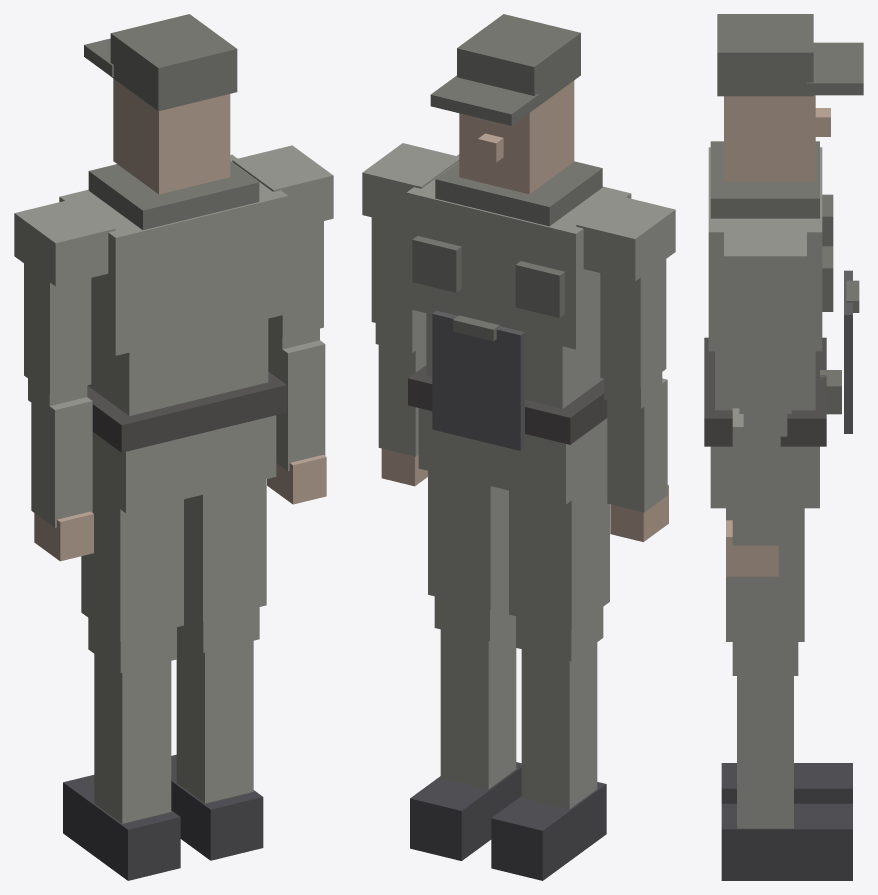
Rendered from crew_ruiz.glb.
The picture shows the model from 3 angles, left to right: view 1: azimuth 30°, elevation 25°; view 2: azimuth 150°, elevation 25°; view 3: azimuth 270°, elevation 25°; orthographic projection. The views are drawn at different scales.
Parts seen in each view (by area): view 1: chest, thigh_-1, shin_-1, shin_1, hips, waist, thigh_1, head, cap_top, uarm_l, belt, farm_l (+14 smaller); view 2: chest, thigh_-1, shin_-1, shin_1, clipbd, thigh_1, hips, head, cap_top, boot_-1, uarm_l, farm_l (+19 smaller); view 3: boot_1, shin_1, cap_top, head, chest, thigh_1, shldr_1, uarm_r, farm_r, collar, belt, hips (+12 smaller).
Boxes of the visible parts, x1,y1,x2,y2 form: chest: (59,154,288,355); thigh_-1: (81,489,183,640); shin_-1: (94,654,171,823); shin_1: (176,634,253,803); hips: (92,415,276,513); waist: (88,319,268,415); thigh_1: (184,479,266,620); head: (113,78,230,194); cap_top: (110,14,237,111); uarm_l: (24,263,91,394); belt: (87,371,286,452); farm_l: (31,397,92,527); chest: (406,154,631,349); thigh_-1: (509,474,609,629); shin_-1: (521,642,597,809); shin_1: (440,623,516,789); clipbd: (432,310,524,450); thigh_1: (428,471,508,609); hips: (418,408,607,504); head: (459,80,574,194); cap_top: (457,14,580,107); boot_-1: (491,782,606,880); uarm_l: (600,259,666,387); farm_l: (607,378,667,512); boot_1: (721,803,852,880); shin_1: (737,676,793,828); cap_top: (717,14,813,96); head: (724,95,815,181); chest: (708,147,822,351); thigh_1: (726,508,804,641); shldr_1: (724,226,806,299); uarm_r: (739,300,791,413); farm_r: (732,408,780,545); collar: (710,141,819,218); belt: (704,337,826,446); hips: (710,446,819,508).
Size of the model in its own units: 0.74 by 2.05 by 0.365.
